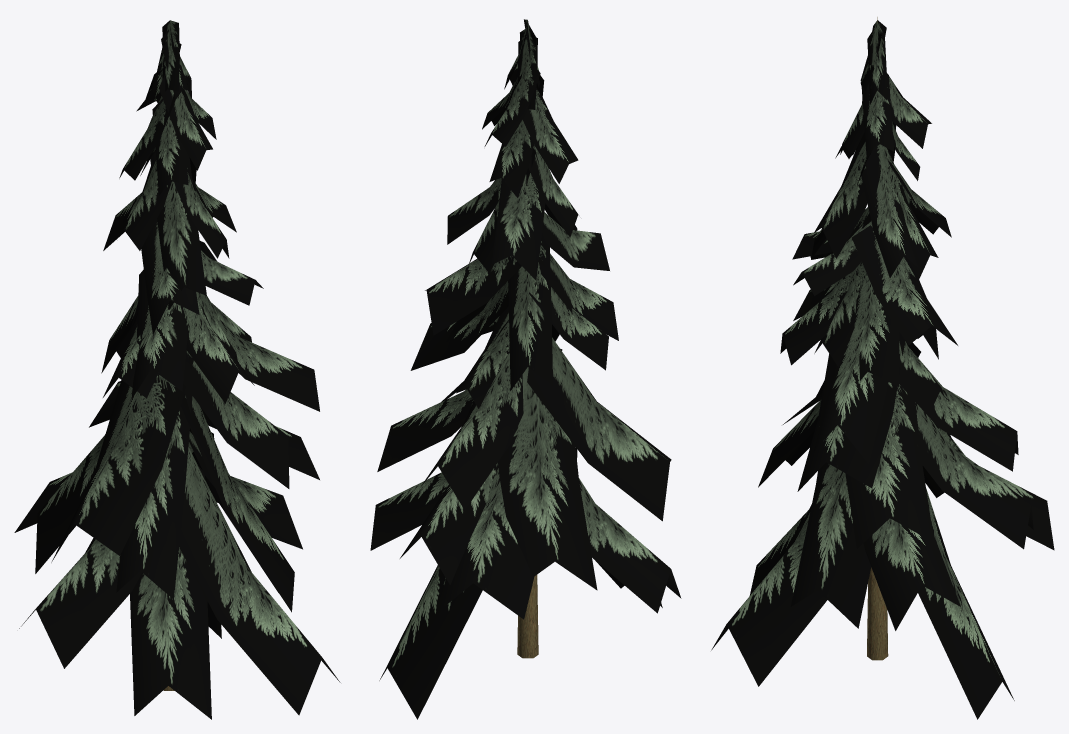
The model's file is talltree.fbx.
The picture shows the model from 3 angles, left to right: view 1: azimuth 30°, elevation 25°; view 2: azimuth 150°, elevation 25°; view 3: azimuth 270°, elevation 25°; orthographic projection. The views are drawn at different scales.
Parts seen in each view (by area): view 1: Tree.001; view 2: Tree.001; view 3: Tree.001.
Boxes of the visible parts, x1=… form: Tree.001: x1=14, y1=20, x2=340, y2=719; Tree.001: x1=370, y1=19, x2=681, y2=719; Tree.001: x1=711, y1=17, x2=1054, y2=719.
Size of the model in its own units: 395 by 918 by 428.
Materials: 1 (1 with a texture image).
